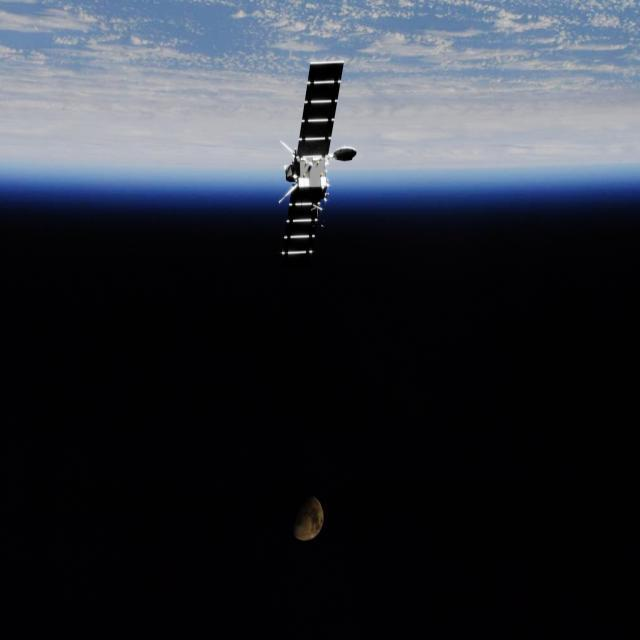satellite: (260, 50, 351, 289)
